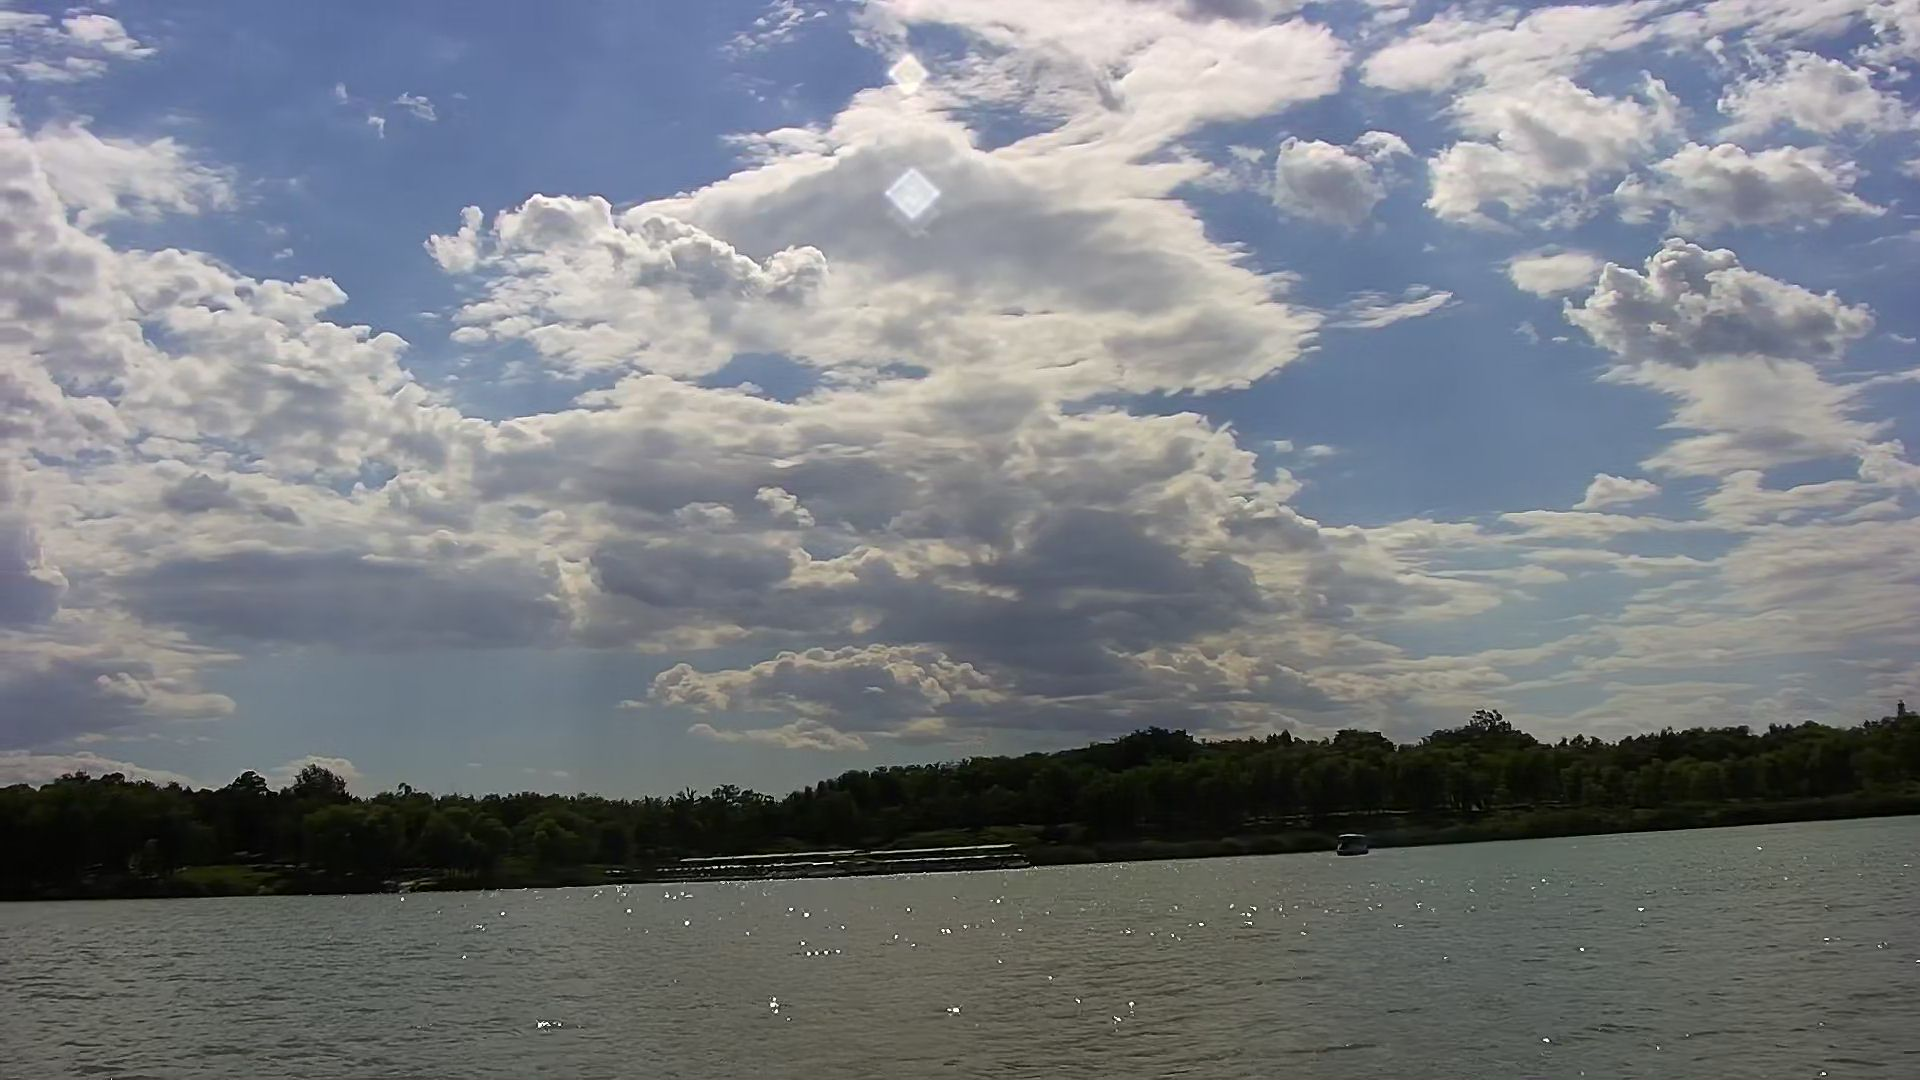boat: (1328, 824, 1369, 860)
harbor: (670, 841, 1021, 882)
